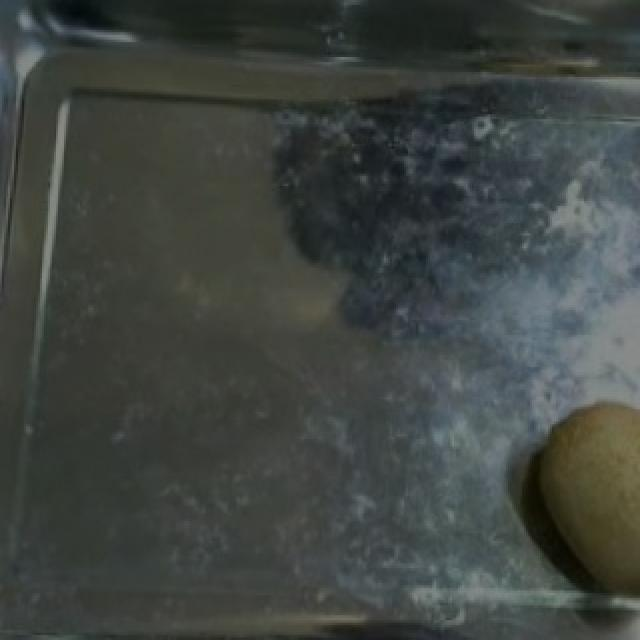Fruit: (520, 389, 640, 613)
